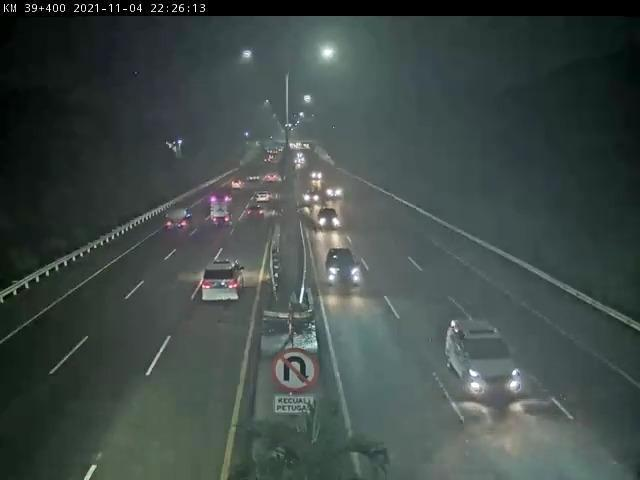car: (455, 312, 524, 392), (323, 249, 379, 298), (197, 258, 247, 312), (316, 209, 347, 229), (257, 187, 274, 211), (249, 201, 266, 222), (306, 190, 322, 209)
truck: (212, 189, 230, 234), (169, 208, 193, 227)
